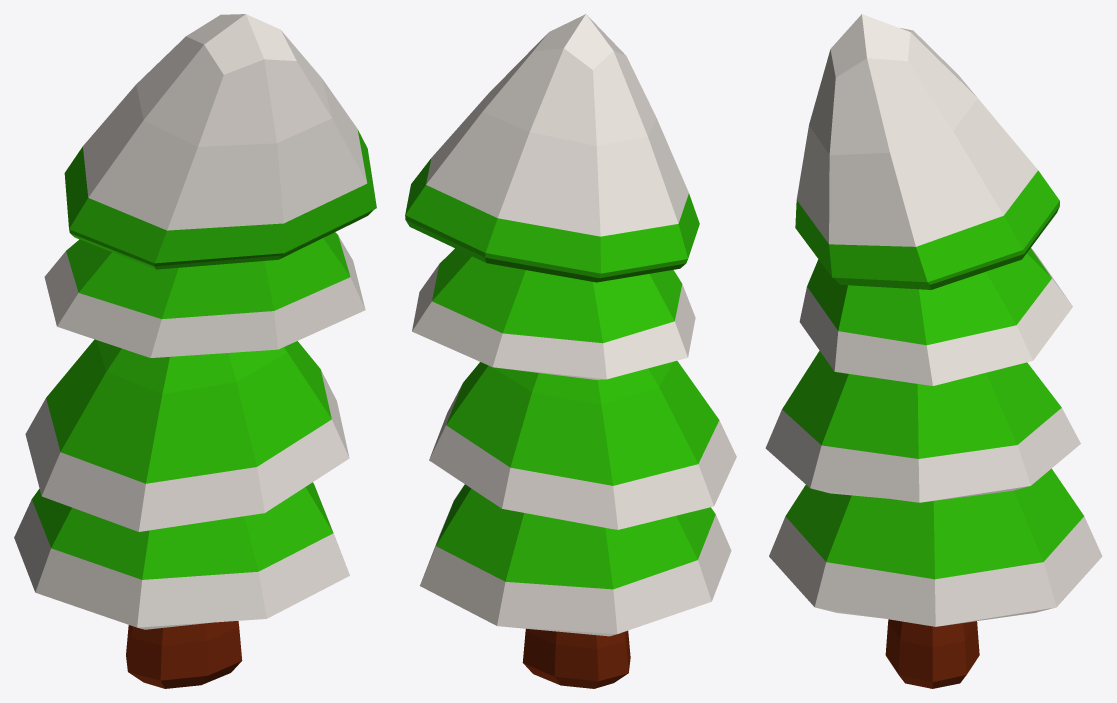
File: Snow tree2.fbx
3 views of the same model, side by side, from view 1: azimuth 30°, elevation 25°; view 2: azimuth 150°, elevation 25°; view 3: azimuth 270°, elevation 25° (orthographic). The views are drawn at different scales.
Visible parts, largest first — view 1: Cube; view 2: Cube; view 3: Cube.
Boxes of the visible parts, <box> form: Cube: <box>14,14,376,688</box>; Cube: <box>405,14,736,688</box>; Cube: <box>765,14,1102,688</box>.
Size of the model in its own units: 179 by 356 by 162.
